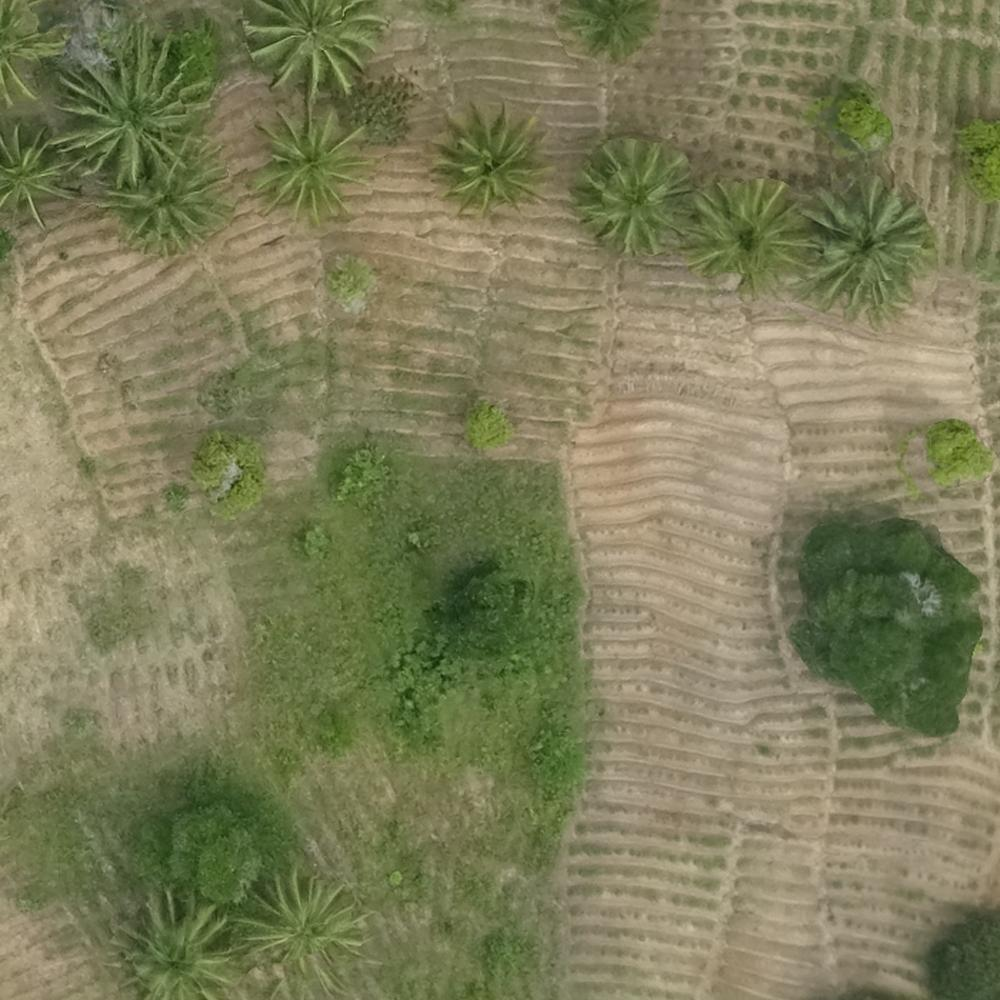Palm: (64, 35, 195, 173), (805, 181, 928, 313), (107, 136, 224, 249), (251, 106, 367, 219), (115, 894, 238, 1000), (435, 110, 547, 224), (246, 1, 375, 98), (692, 180, 800, 294), (244, 876, 357, 983), (576, 140, 687, 247), (1, 118, 83, 228)
